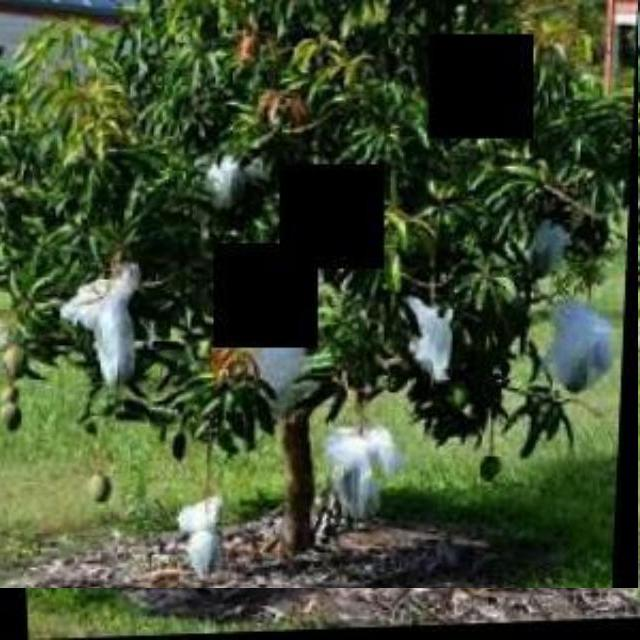tree: (0, 0, 638, 588)
